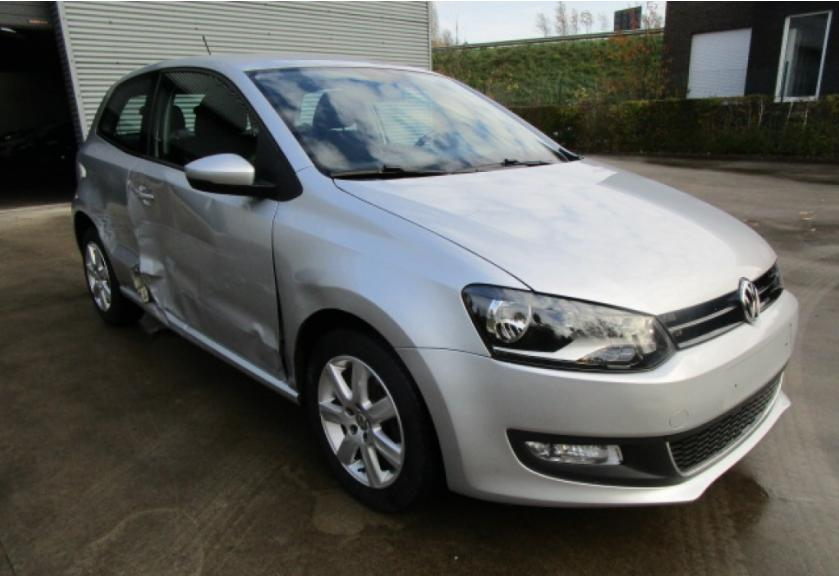Back-wheel: (81, 225, 145, 325)
Back-window: (98, 71, 160, 156)
Fender: (272, 165, 531, 393), (558, 146, 582, 161)
Front-bumper: (393, 287, 799, 508)
Front-door: (126, 66, 302, 383)
Front-wheel: (306, 316, 446, 513)
Front-window: (150, 72, 259, 168)
Grille: (655, 256, 783, 350)
Headlight: (462, 285, 677, 372)
Hood: (334, 156, 777, 316)
Mirror: (184, 125, 299, 196)
Quarter-panel: (71, 125, 155, 303)
Rocker-panel: (119, 285, 300, 407)
Roof: (126, 53, 416, 73)
Tail-light: (75, 162, 87, 182)
Windshield: (244, 66, 569, 178)
